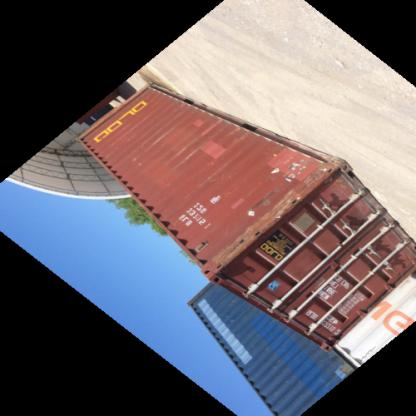Damage: (270, 146, 334, 194), (206, 152, 233, 194), (248, 190, 274, 233), (152, 124, 180, 155), (195, 119, 223, 143), (227, 126, 254, 146), (181, 150, 201, 176), (124, 152, 146, 172)
